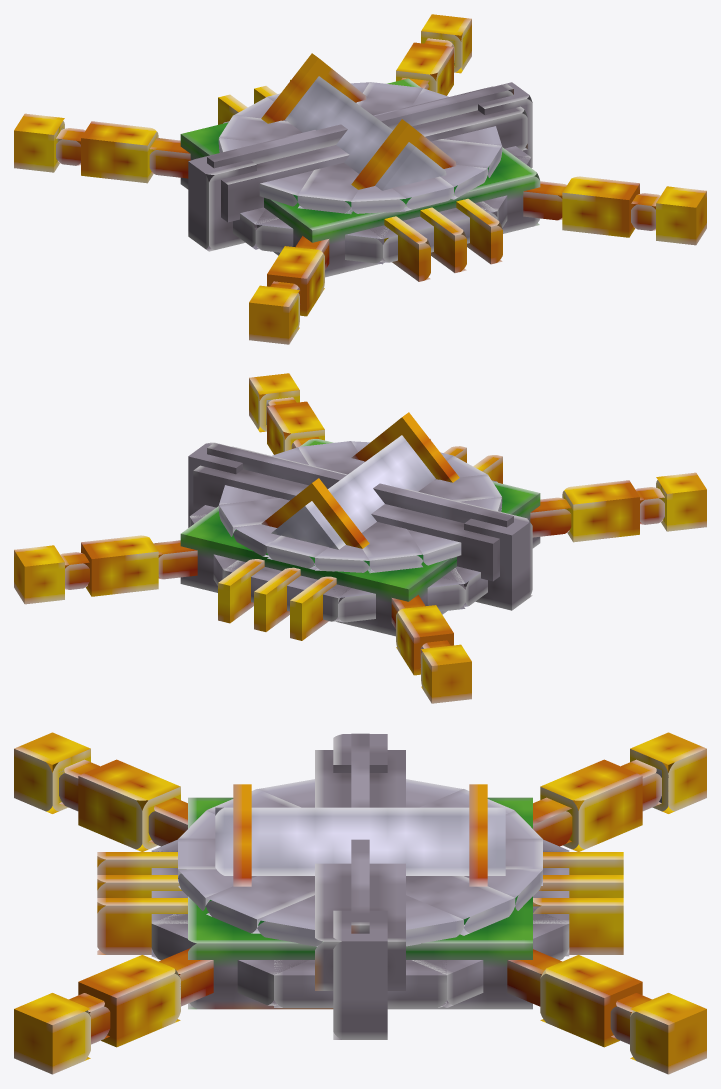
The model's file is chameleon_circuit.obj.
The picture shows the model from 3 angles, top to bottom: view 1: azimuth 30°, elevation 25°; view 2: azimuth 150°, elevation 25°; view 3: azimuth 270°, elevation 25°; orthographic projection. The views are drawn at different scales.
Visible parts, largest first — view 1: cube22, cube19, cube23, cube18, cube7, cube11, cube8, hexadecagon6, cube21, hexadecagon4, cube10, cube15 (+21 smaller); view 2: cube22, cube19, cube23, cube18, cube12, cube13, cube16, hexadecagon4, cube21, hexadecagon6, cube14, cube9 (+21 smaller); view 3: cube23, cube22, cube19, cube20, cube16, cube8, cube11, cube13, cube7, cube12, cube10, cube14 (+23 smaller).
Part boxes in pixels (box(x1,y1,x2,y2)): cube22: box(180, 78, 540, 277); cube19: box(193, 86, 527, 222); cube23: box(285, 76, 446, 190); cube18: box(207, 84, 513, 168); cube7: box(56, 128, 660, 230); cube11: box(562, 176, 639, 237); cube8: box(81, 121, 158, 183); hexadecagon6: box(297, 82, 422, 214); cube21: box(188, 149, 256, 251); hexadecagon4: box(219, 115, 502, 177); cube10: box(656, 186, 706, 245); cube15: box(249, 285, 299, 344); cube22: box(180, 439, 540, 636); cube19: box(193, 446, 527, 581); cube23: box(271, 435, 435, 549); cube18: box(207, 443, 513, 527); cube12: box(60, 487, 664, 589); cube13: box(81, 535, 158, 596); cube16: box(562, 480, 639, 542); hexadecagon4: box(297, 441, 422, 573); cube21: box(464, 508, 532, 610); hexadecagon6: box(219, 474, 502, 536); cube14: box(14, 545, 64, 604); cube9: box(421, 644, 471, 703); cube23: box(215, 807, 505, 875); cube22: box(188, 797, 532, 1009); cube19: box(315, 750, 405, 990); cube20: box(333, 910, 387, 1039); cube16: box(78, 759, 180, 851); cube8: box(540, 759, 642, 851); cube11: box(78, 954, 180, 1047); cube13: box(540, 954, 642, 1047); cube7: box(69, 759, 661, 1044); cube12: box(59, 759, 651, 1044); cube10: box(14, 993, 90, 1074); cube14: box(630, 993, 706, 1074).
Bounding box in the file's own units: 2.39 × 0.5777 × 2.39.
